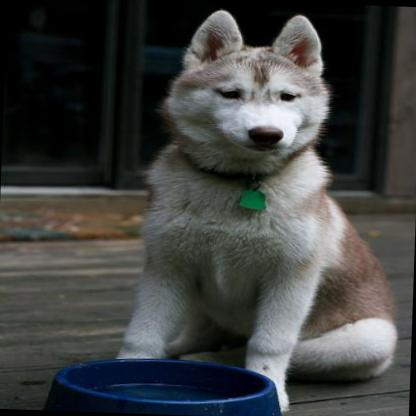Siberian_husky: (110, 6, 408, 414)
